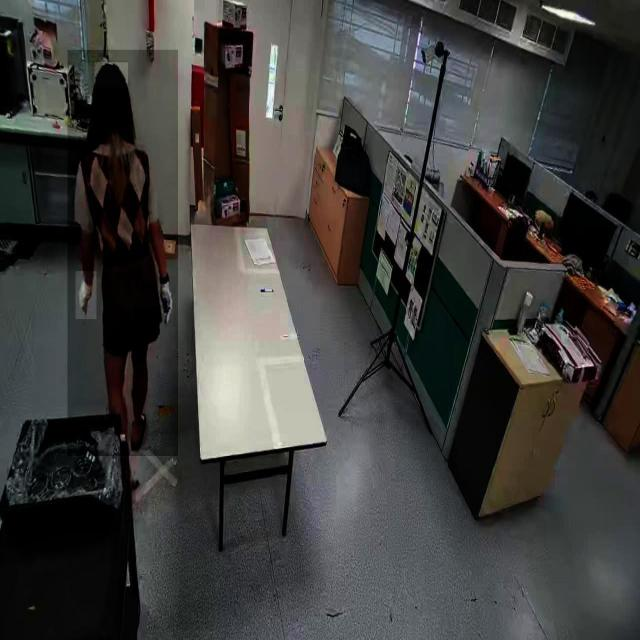hand_glove: (154, 276, 177, 324), (75, 271, 97, 320)
head_nohelmet: (92, 60, 128, 90), (94, 62, 128, 87)
person: (68, 50, 178, 457)
